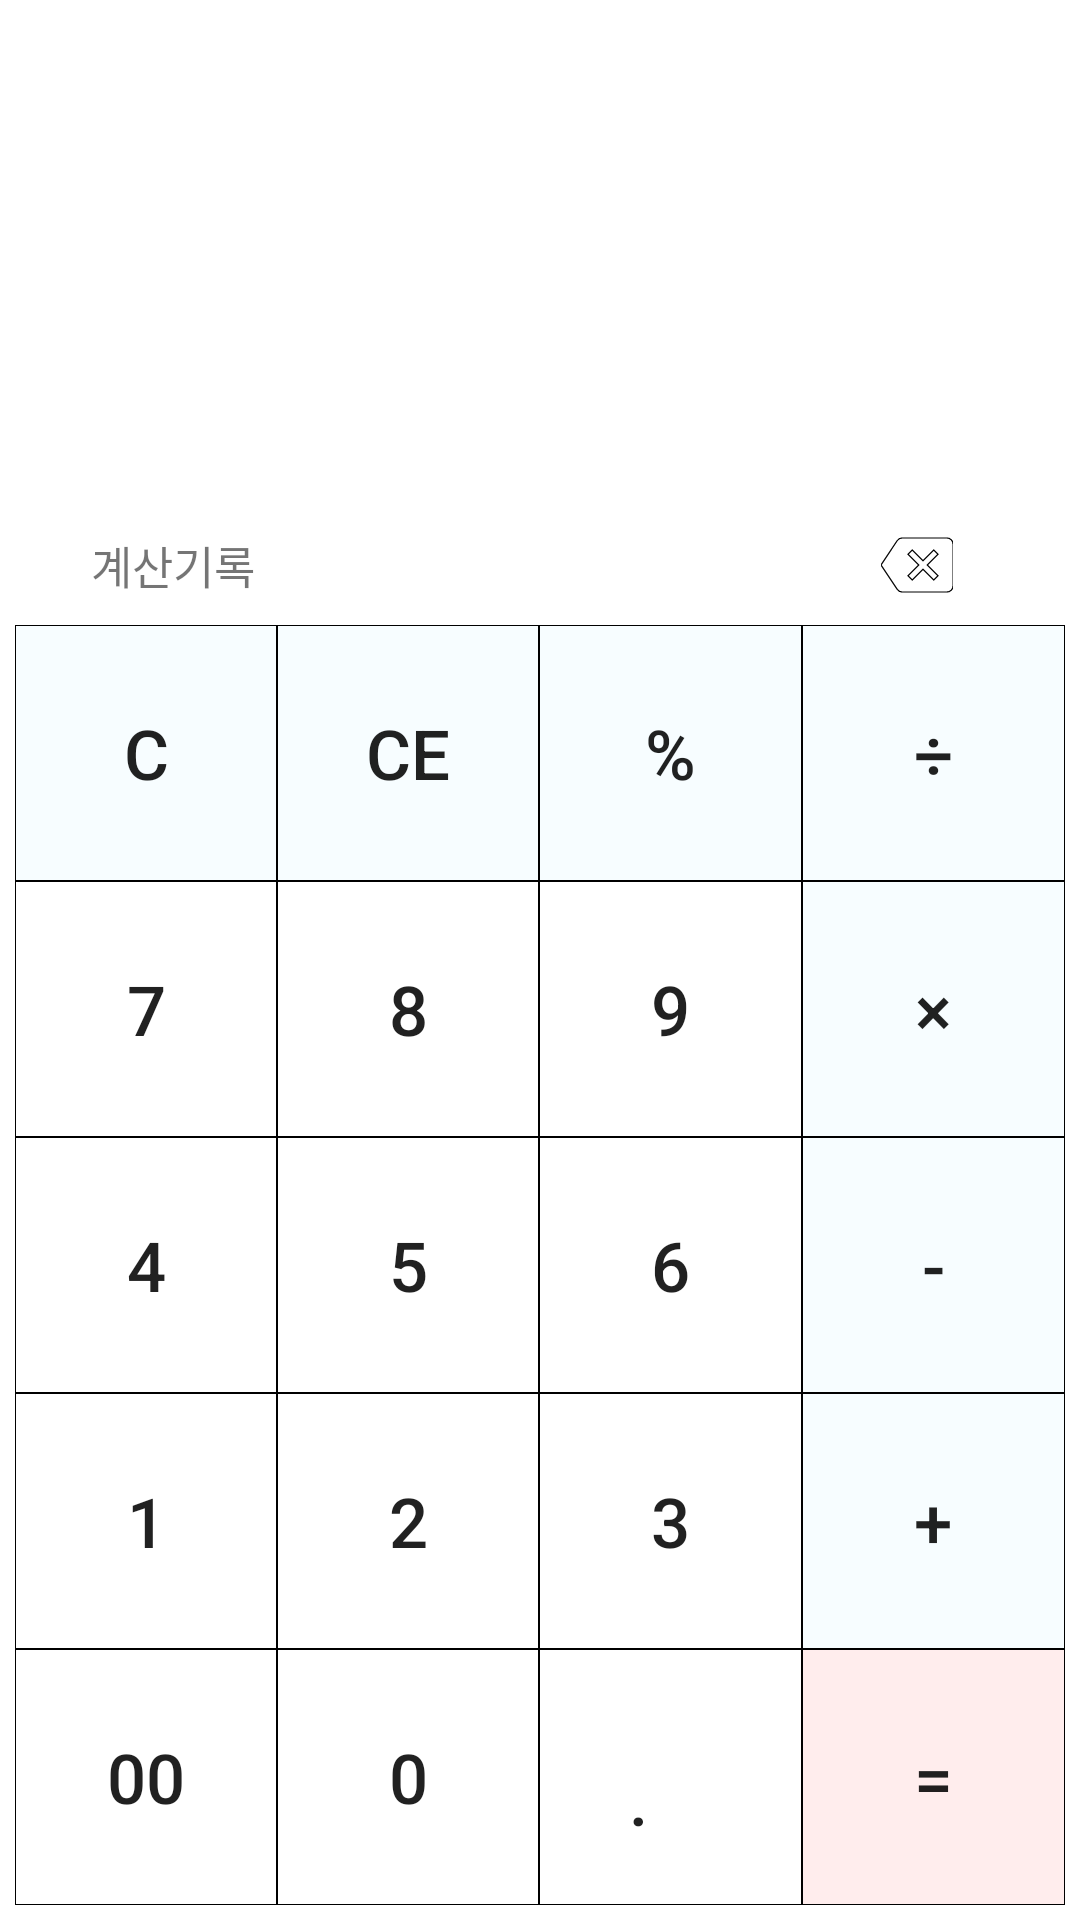

Icons on this 1080x1920 Android screen, each with its box as (x1, y1, x2, y2):
backspace: (881, 537, 953, 593)
